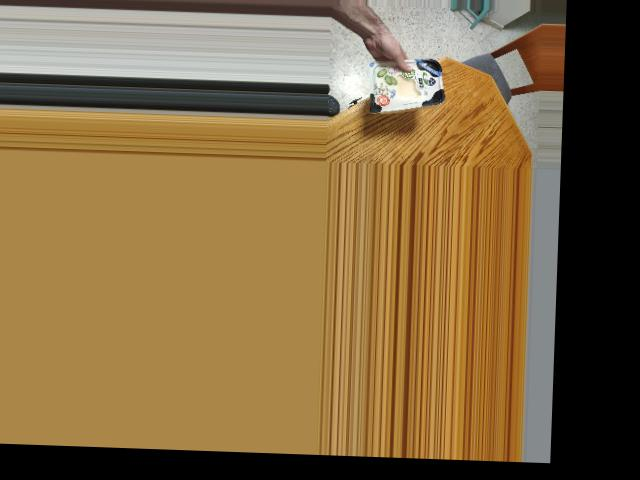cheese: (367, 48, 445, 114)
